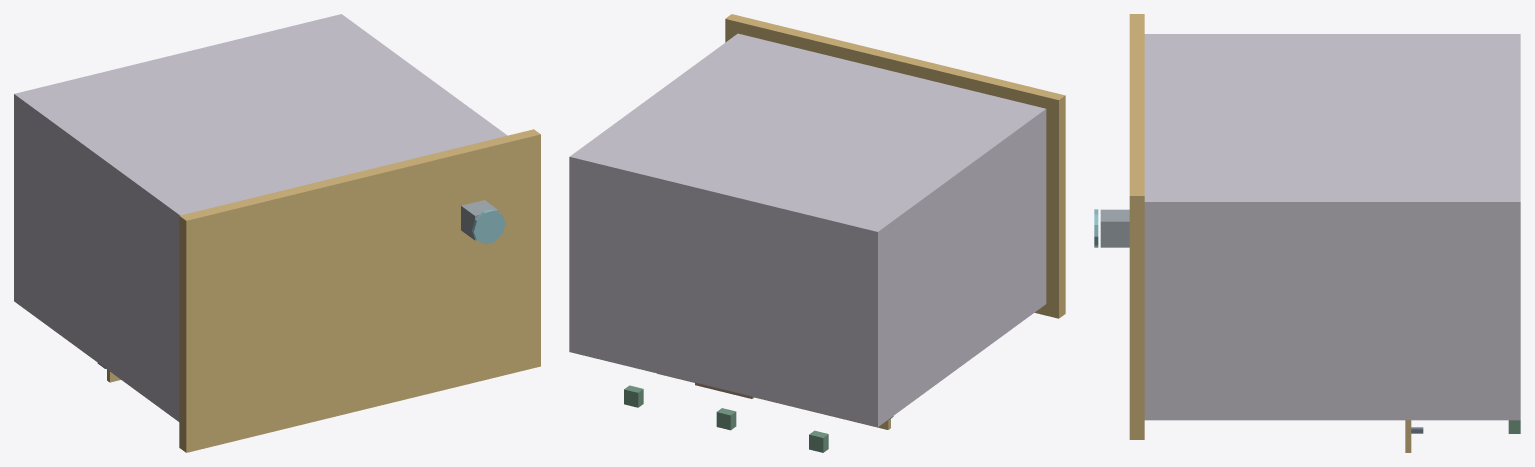
File: market_kiosk.glb
The picture shows the model from 3 angles, left to right: view 1: azimuth 30°, elevation 25°; view 2: azimuth 150°, elevation 25°; view 3: azimuth 270°, elevation 25°; orthographic projection. The views are drawn at different scales.
Parts seen in each view (by area): view 1: wall4, roof3, glass, metal2; view 2: wall4, roof3, green; view 3: wall4, roof3, metal2.
Boxes of the visible parts, left/top/right/bottom form: wall4: left=14, top=14, right=507, bottom=421; roof3: left=179, top=129, right=540, bottom=452; glass: left=472, top=209, right=505, bottom=244; metal2: left=461, top=200, right=498, bottom=240; wall4: left=569, top=33, right=1046, bottom=427; roof3: left=725, top=14, right=1065, bottom=318; green: left=624, top=385, right=828, bottom=452; wall4: left=1144, top=34, right=1520, bottom=420; roof3: left=1129, top=14, right=1144, bottom=439; metal2: left=1100, top=209, right=1129, bottom=247.
Size of the model in its own units: 10.53 by 7.69 by 10.43.
